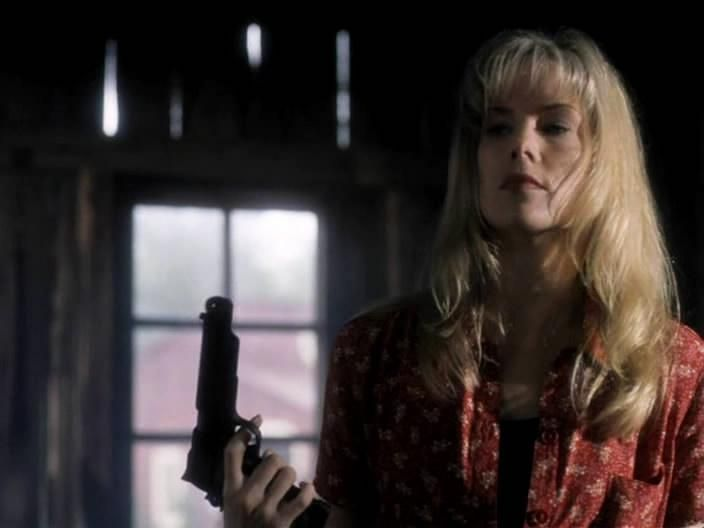gun: (167, 288, 301, 504)
